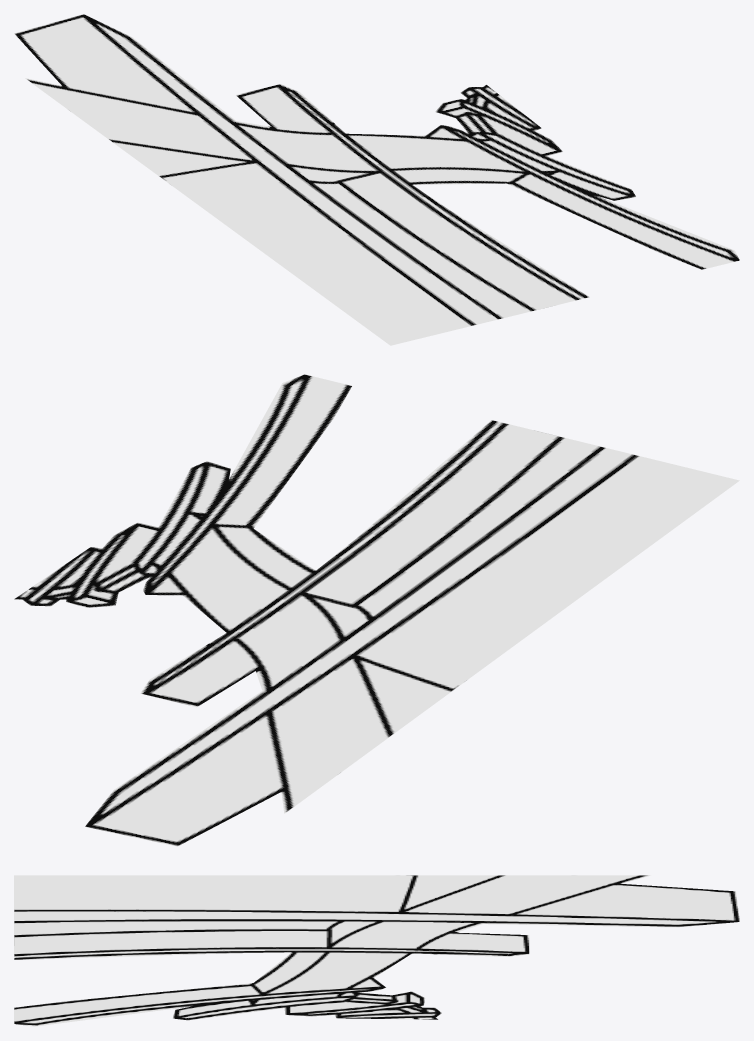
Rendered from FarmFence.fbx.
3 renders of one model, top to bottom at view 1: azimuth 30°, elevation 25°; view 2: azimuth 150°, elevation 25°; view 3: azimuth 270°, elevation 25°, orthographic. The views are drawn at different scales.
Parts seen in each view (by area): view 1: Plane.007; view 2: Plane.007; view 3: Plane.007.
Part boxes in pixels (box(x1,y1,x2,y2)): Plane.007: box(14, 14, 739, 345); Plane.007: box(14, 374, 739, 846); Plane.007: box(14, 875, 739, 1026).
Bounding box in the file's own units: 179 × 5.9e-05 × 362.
